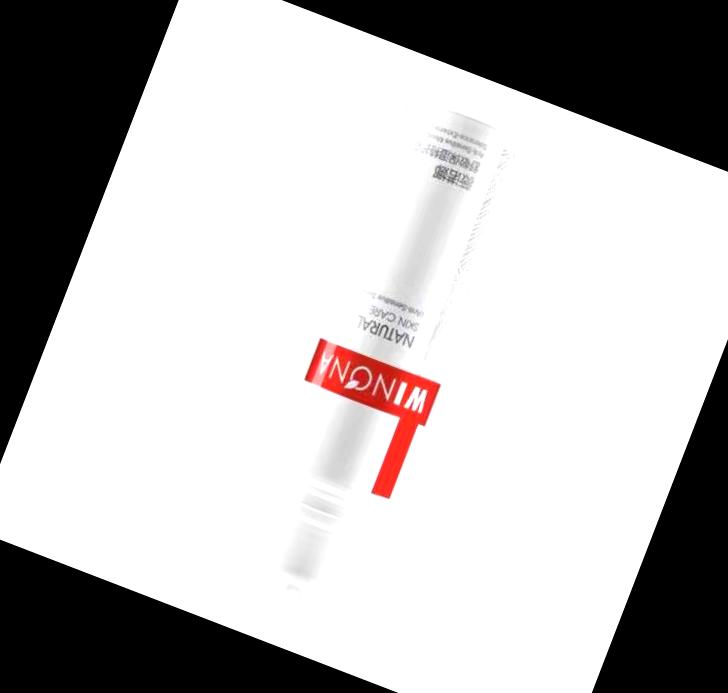cosmetic: (218, 92, 538, 641)
